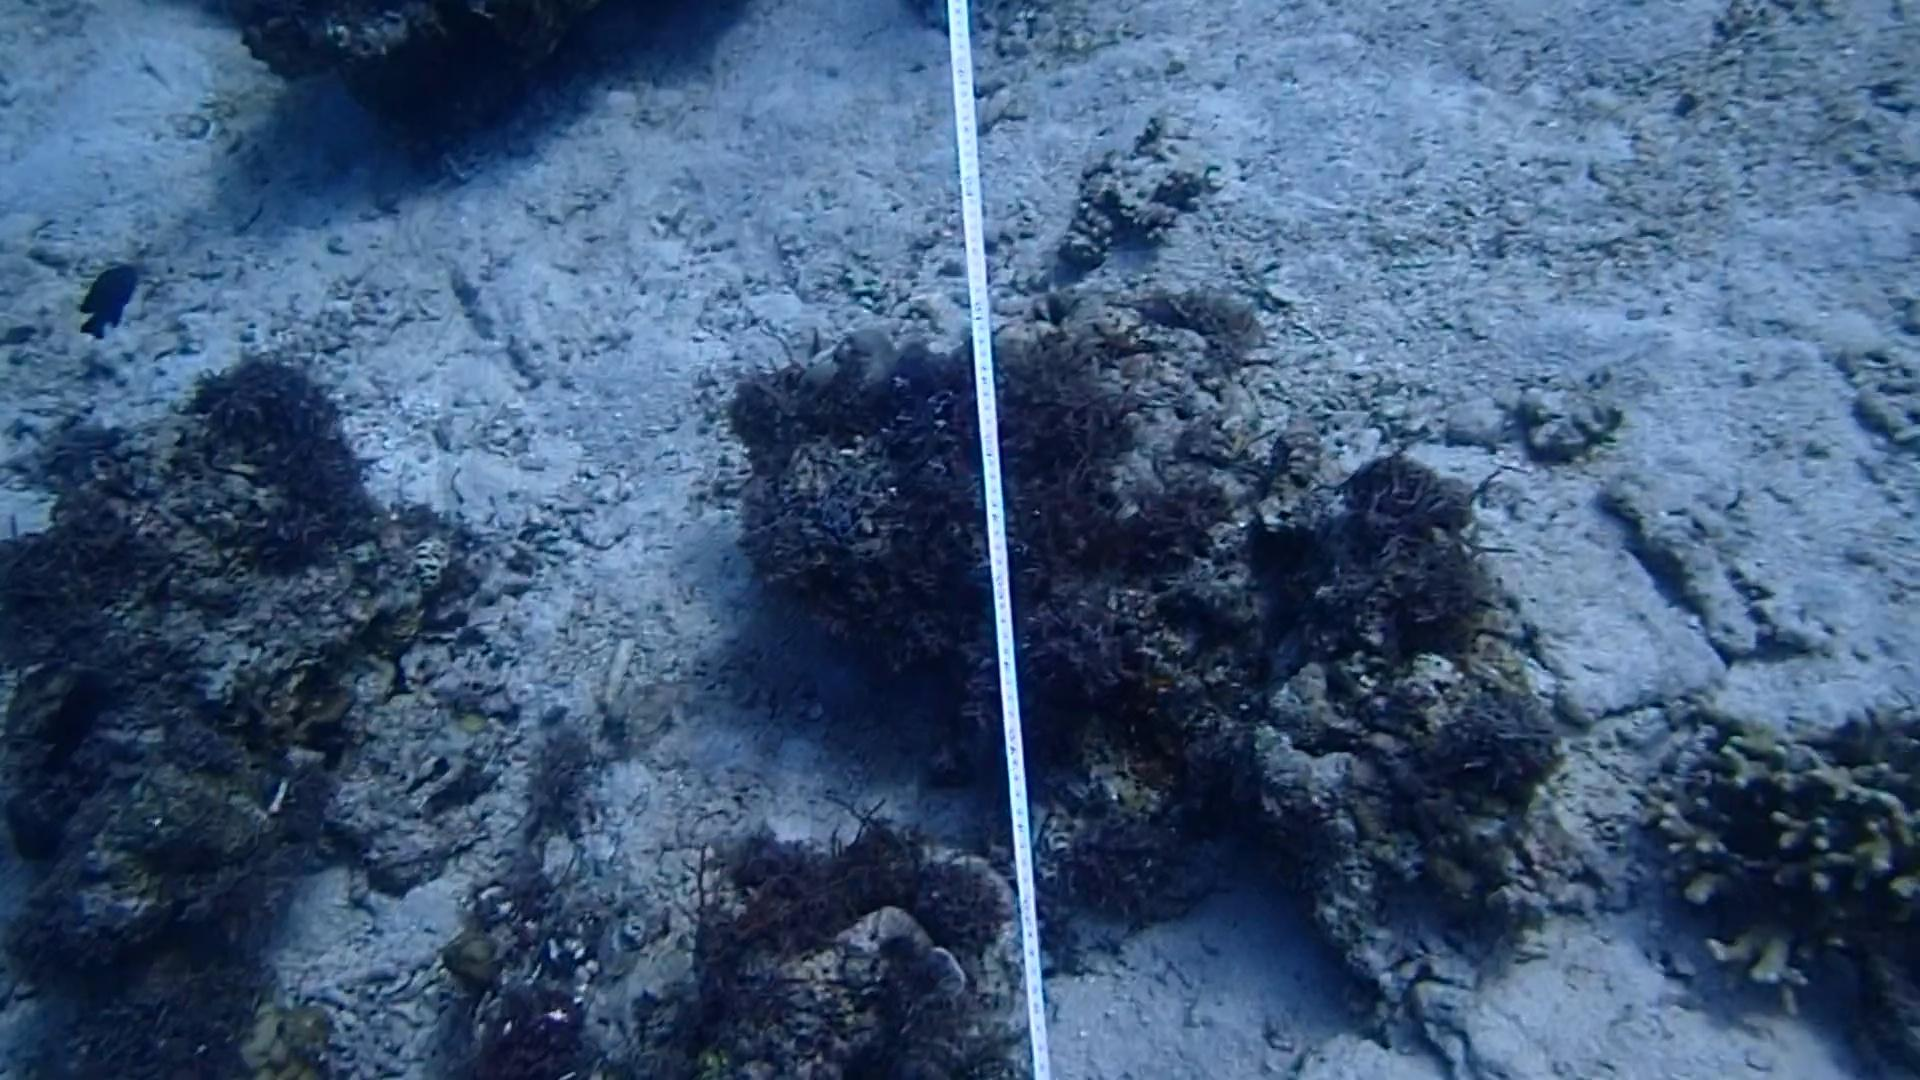Dark Fish: (37, 657, 124, 770), (73, 252, 141, 348)
